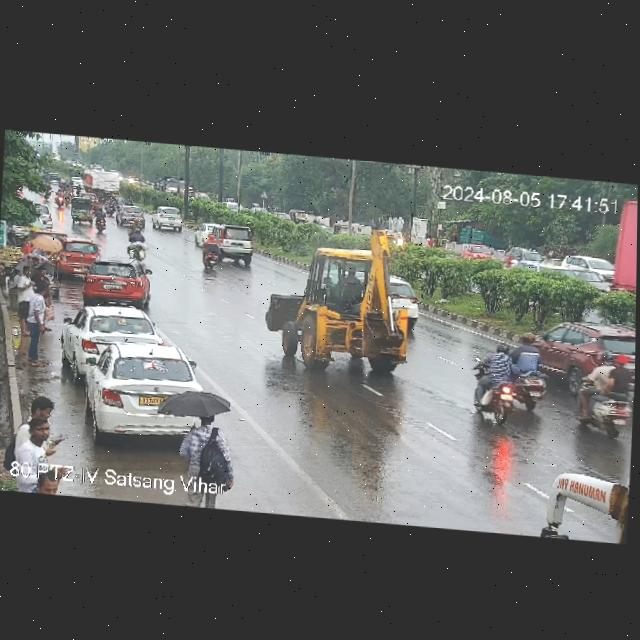bus: (537, 457, 629, 543)
car: (81, 339, 205, 441), (64, 304, 161, 374), (521, 314, 634, 373), (570, 348, 632, 431), (84, 259, 159, 310), (194, 219, 253, 263), (558, 251, 615, 291), (52, 235, 96, 276), (150, 206, 188, 232), (68, 194, 96, 226), (116, 205, 149, 228), (463, 242, 495, 263), (37, 202, 54, 230)
motorcycle: (462, 327, 550, 427), (122, 227, 157, 262), (200, 237, 224, 270), (96, 195, 118, 231), (56, 175, 73, 208), (501, 249, 516, 269)
person: (155, 387, 229, 445), (15, 265, 55, 326), (29, 276, 52, 369), (28, 392, 63, 442), (24, 231, 56, 272)
truck: (265, 218, 416, 378), (616, 194, 638, 297), (79, 167, 122, 197), (158, 176, 191, 200)
